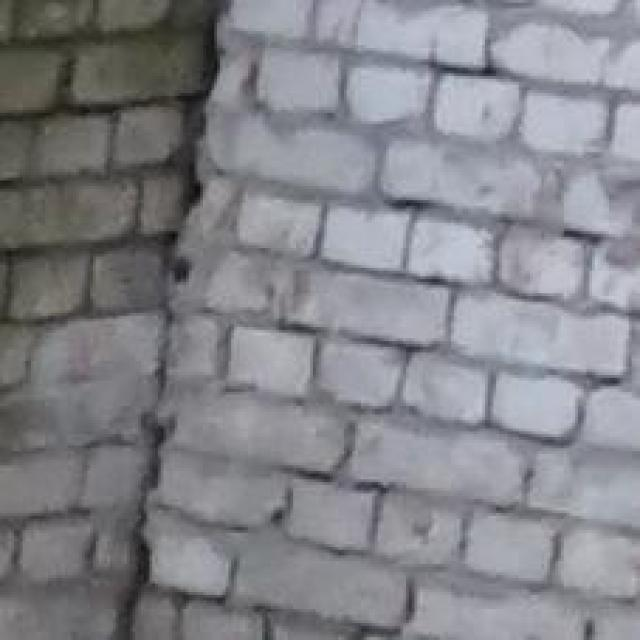Crack: (93, 0, 279, 640)
